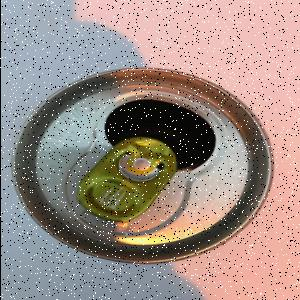Can: (10, 67, 278, 265)
